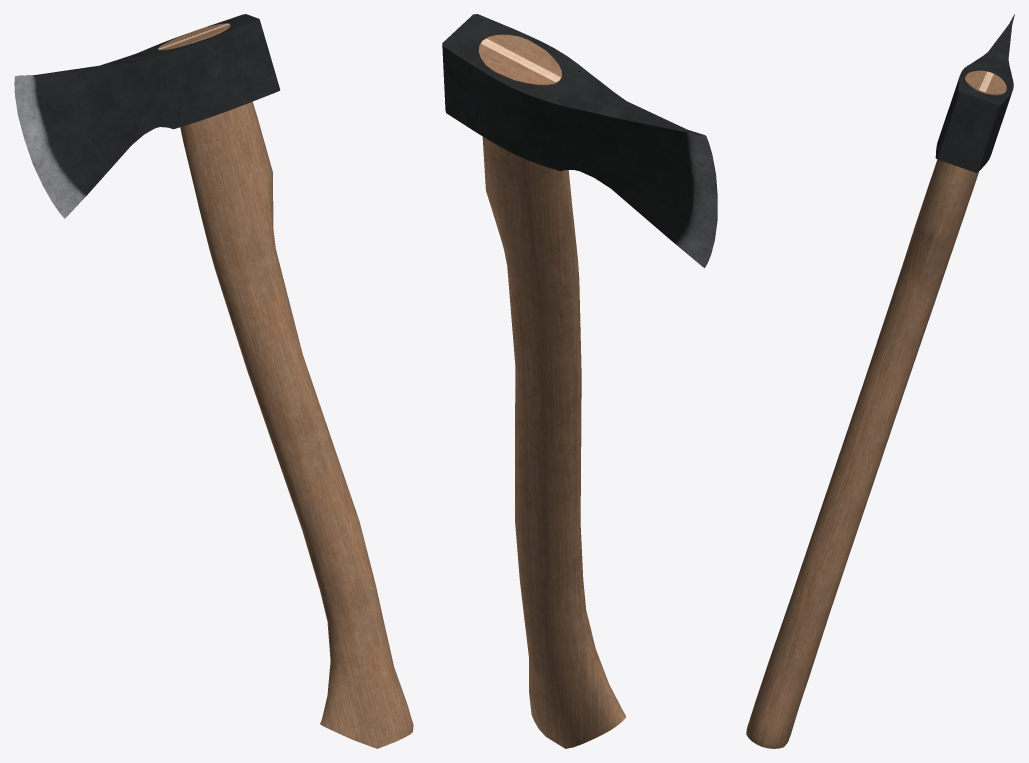
File: machado.glb
3 views of the same model, side by side, from view 1: azimuth 30°, elevation 25°; view 2: azimuth 150°, elevation 25°; view 3: azimuth 270°, elevation 25° (orthographic). The views are drawn at different scales.
Parts seen in each view (by area): view 1: Axe001_Axe_0; view 2: Axe001_Axe_0; view 3: Axe001_Axe_0.
Part boxes in pixels (bbox=[...]): Axe001_Axe_0: bbox=[14, 14, 413, 748]; Axe001_Axe_0: bbox=[442, 14, 717, 748]; Axe001_Axe_0: bbox=[746, 14, 1014, 748].
Size of the model in its own units: 2.97 by 6.92 by 2.62.
1 material, 1 textured.
